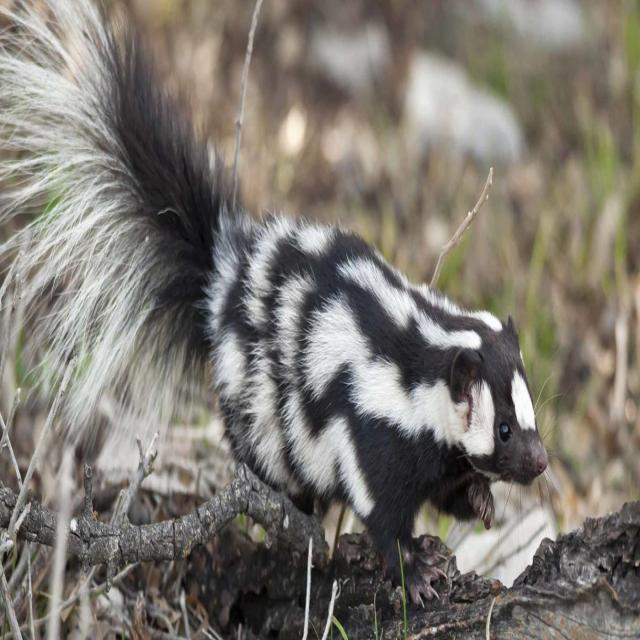Skunk: (0, 0, 577, 549)
